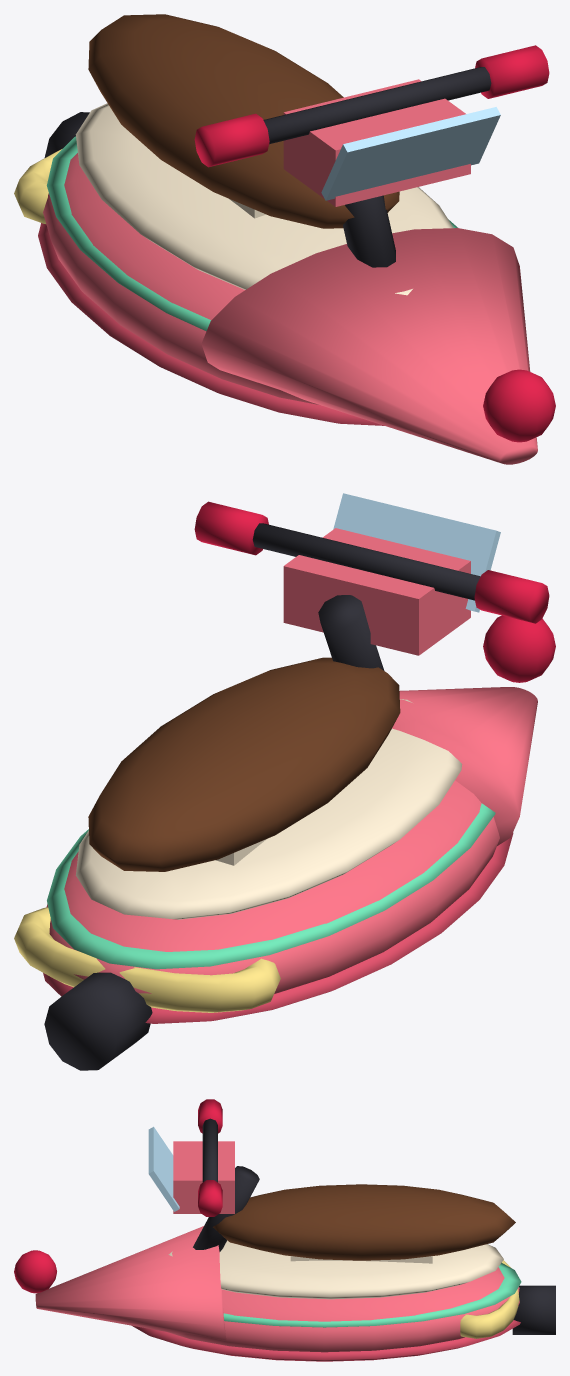
The model's file is jetski.glb.
3 views of the same model, one above another, from view 1: azimuth 30°, elevation 25°; view 2: azimuth 150°, elevation 25°; view 3: azimuth 270°, elevation 25° (orthographic). The views are drawn at different scales.
Visible parts, largest first — view 1: jetski; view 2: jetski; view 3: jetski.
Boxes of the visible parts, x1,y1,x2,y2 form: jetski: [14, 14, 555, 464]; jetski: [14, 493, 555, 1070]; jetski: [14, 1099, 555, 1361].
Size of the model in its own units: 0.74 by 0.678 by 1.75.
1 material, 1 textured.
